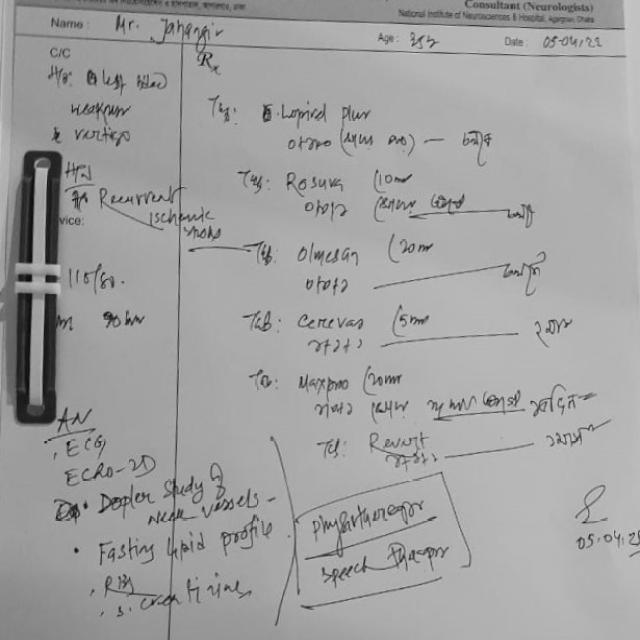medicine: (281, 98, 373, 126), (293, 239, 365, 270), (280, 168, 350, 199), (296, 308, 372, 336), (364, 430, 432, 455), (294, 370, 353, 394)
